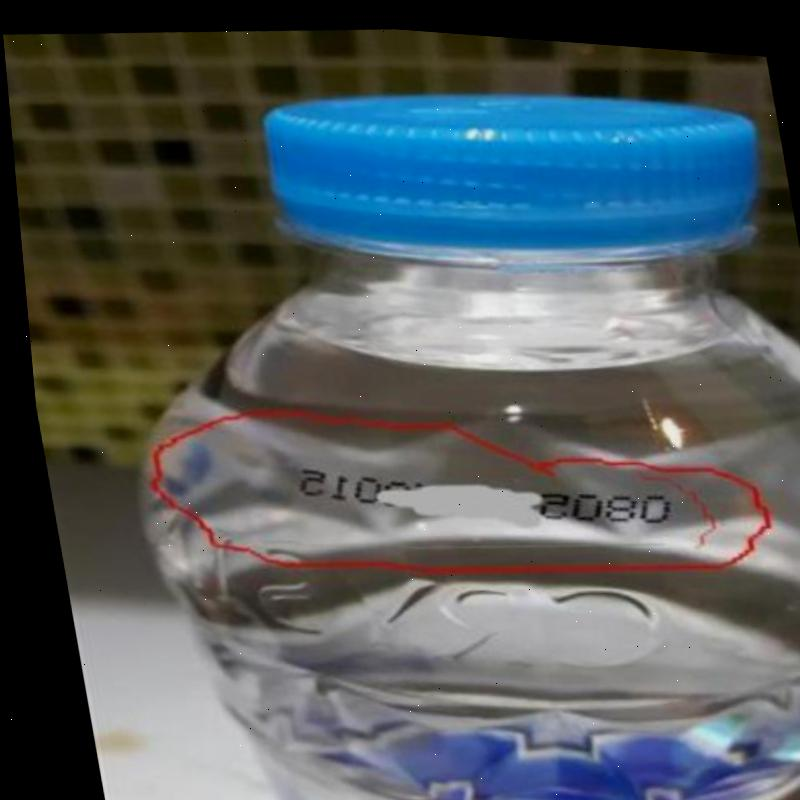botella: (61, 31, 800, 800)
